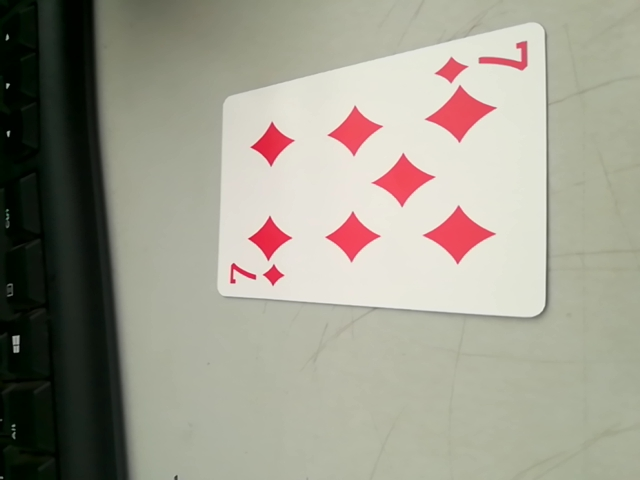fk 7: (441, 38, 534, 84), (219, 260, 288, 296)
